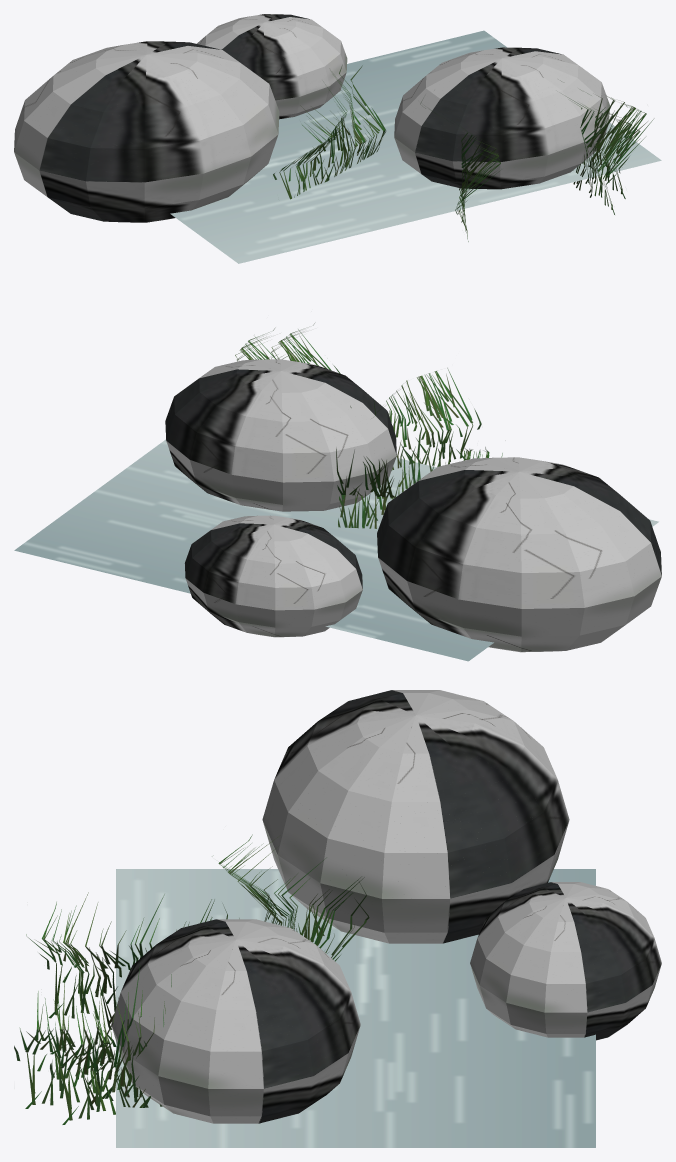
The model's file is gieng-co-reu-vung-nuoc.glb.
The picture shows the model from 3 angles, top to bottom: view 1: azimuth 30°, elevation 25°; view 2: azimuth 150°, elevation 25°; view 3: azimuth 270°, elevation 25°; orthographic projection. The views are drawn at different scales.
Visible parts, largest first — view 1: gieng-co-reu-vung-nuoc; view 2: gieng-co-reu-vung-nuoc; view 3: gieng-co-reu-vung-nuoc.
Boxes of the visible parts, x1,y1,x2,y2 form: gieng-co-reu-vung-nuoc: [14, 14, 661, 263]; gieng-co-reu-vung-nuoc: [14, 323, 661, 661]; gieng-co-reu-vung-nuoc: [14, 690, 661, 1147].
Bounding box in the file's own units: 1.36 × 0.384 × 1.08.
Materials: 3 (3 with a texture image).
